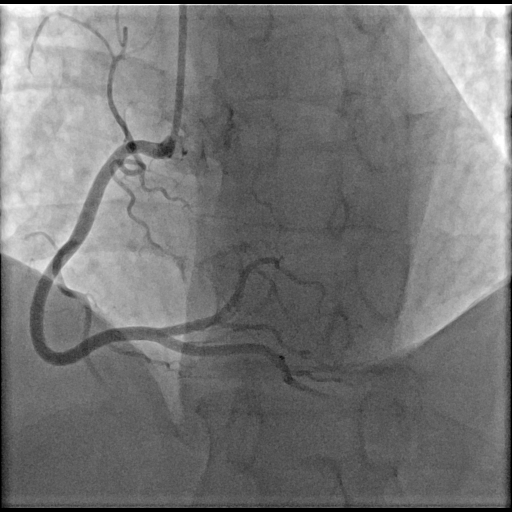RCA: (30, 135, 284, 365)
catherter: (171, 4, 189, 139)
